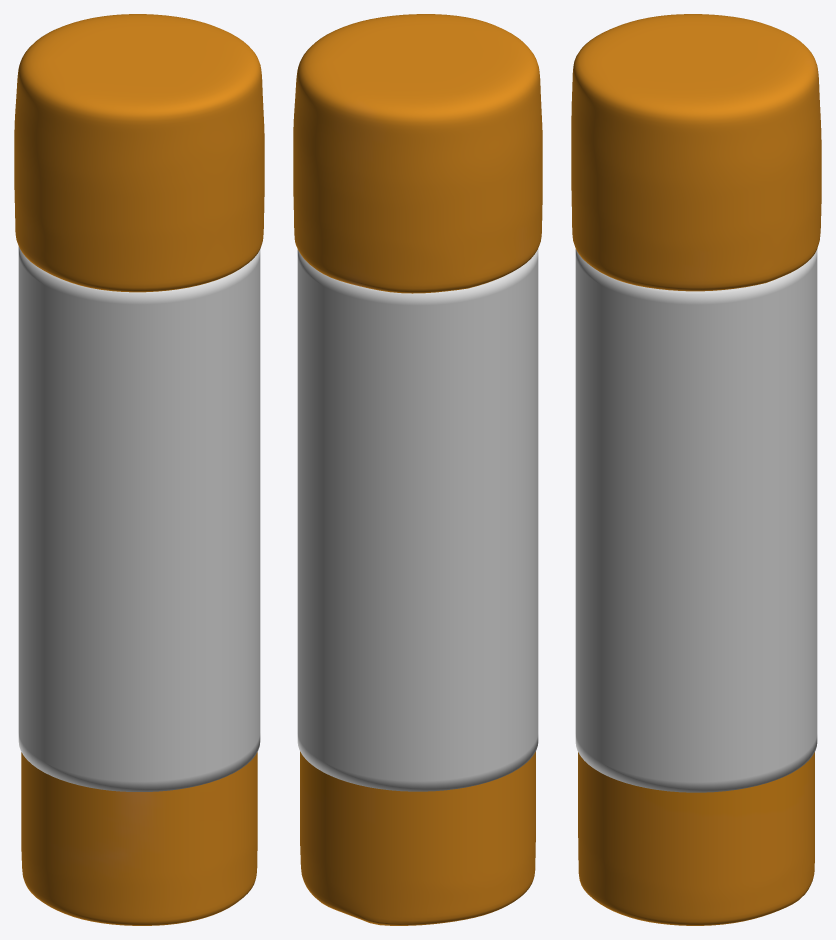
Rendered from Gluestick.fbx.
3 views of the same model, side by side, from view 1: azimuth 30°, elevation 25°; view 2: azimuth 150°, elevation 25°; view 3: azimuth 270°, elevation 25° (orthographic).
Visible parts, largest first — view 1: Base, Cap, Twister; view 2: Base, Cap, Twister; view 3: Base, Cap, Twister.
Boxes of the visible parts, <box> form: Base: <box>18,246,260,791</box>; Cap: <box>14,14,264,292</box>; Twister: <box>21,752,257,925</box>; Base: <box>297,248,538,791</box>; Cap: <box>293,14,542,293</box>; Twister: <box>300,751,535,925</box>; Base: <box>575,249,817,792</box>; Cap: <box>571,14,821,291</box>; Twister: <box>578,752,814,925</box>.
Bounding box in the file's own units: 0.6235 × 2.26 × 0.6242.
